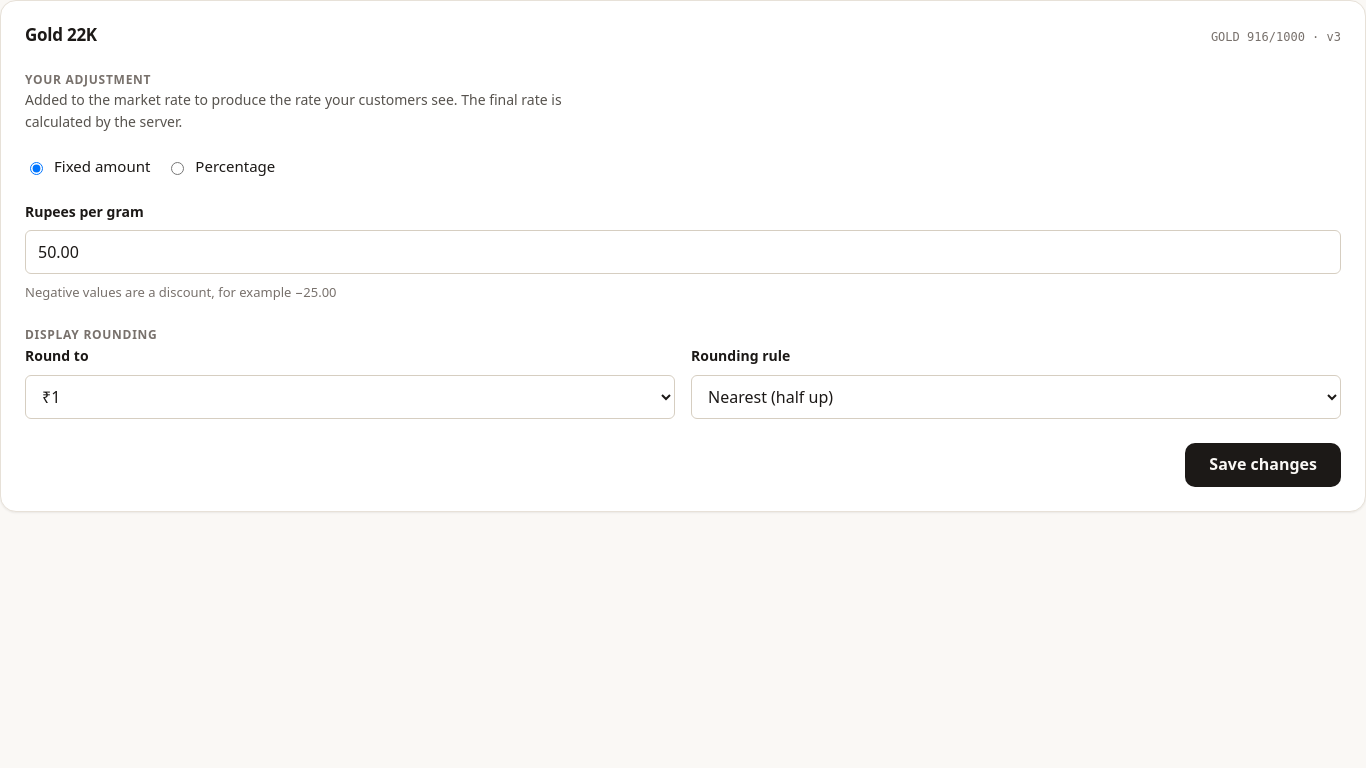
validation errors › Editor_fieldError_isShownBesideTheField
Click the button "Save changes". click: (1263, 465)
box: [1185,443,1341,487]
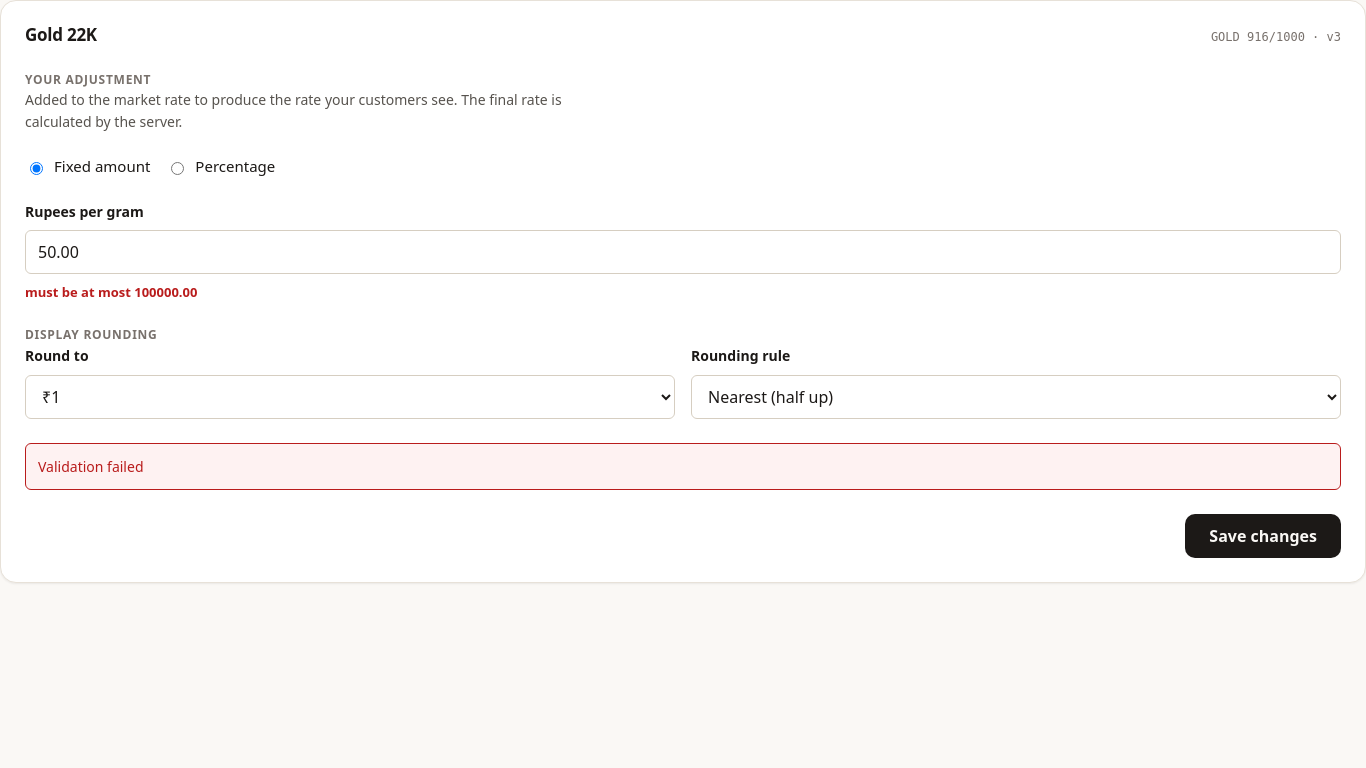
Check: the text "must be at most 100000.00" is shown, box [25,283,198,301]
